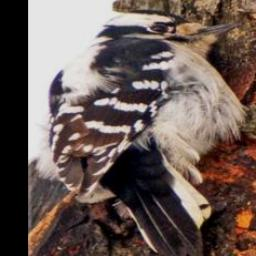Woodpecker: (33, 4, 256, 256)
